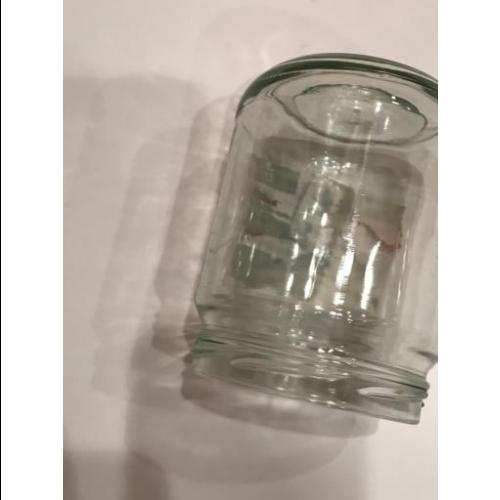glass: (201, 56, 436, 426)
